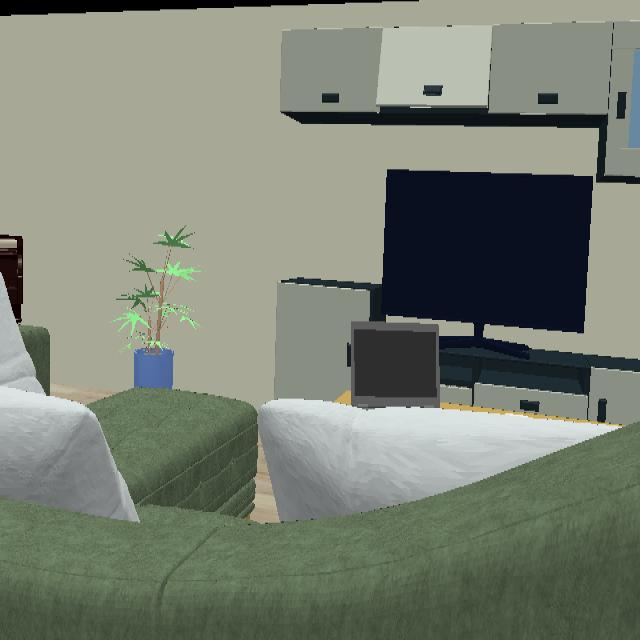cabinet: (280, 21, 640, 183), (439, 337, 640, 427), (274, 280, 384, 403)
laptop: (349, 320, 441, 409)
monitor: (382, 168, 594, 333)
pillow: (257, 399, 619, 524), (0, 328, 139, 523)
sofa: (0, 389, 640, 640)
